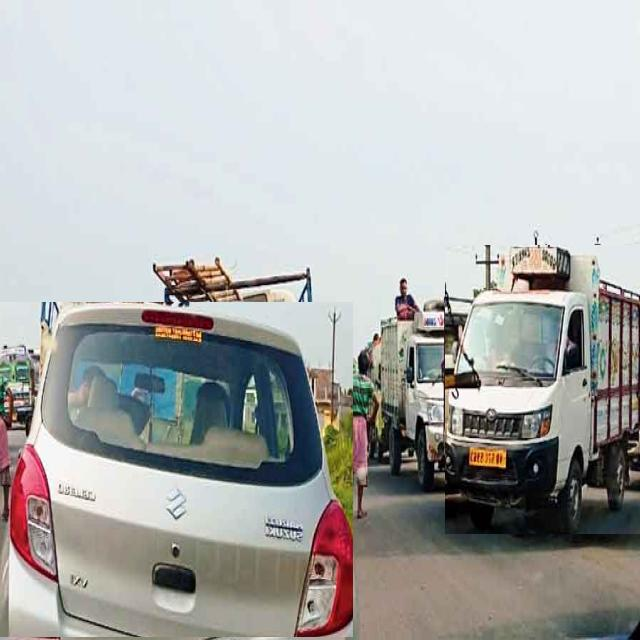car: (0, 302, 353, 637)
truck: (445, 246, 640, 534), (380, 311, 451, 486)
